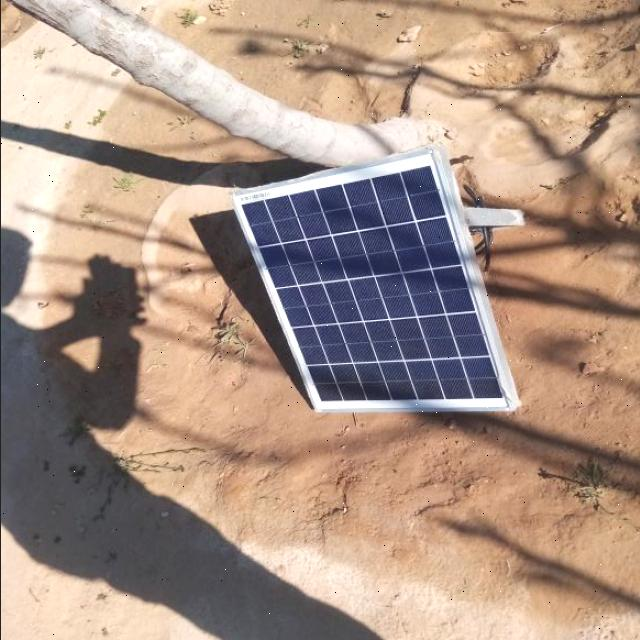Normal Solar Panel: (228, 148, 514, 412)
